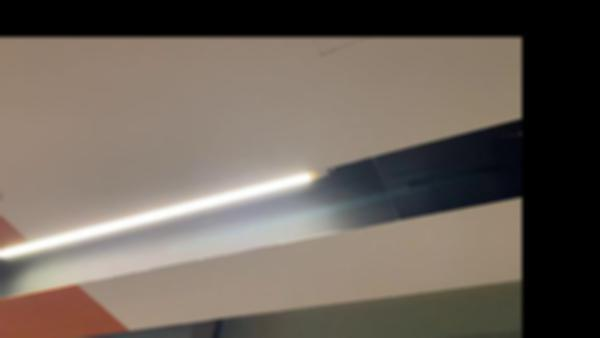light_on: (0, 165, 330, 272)
